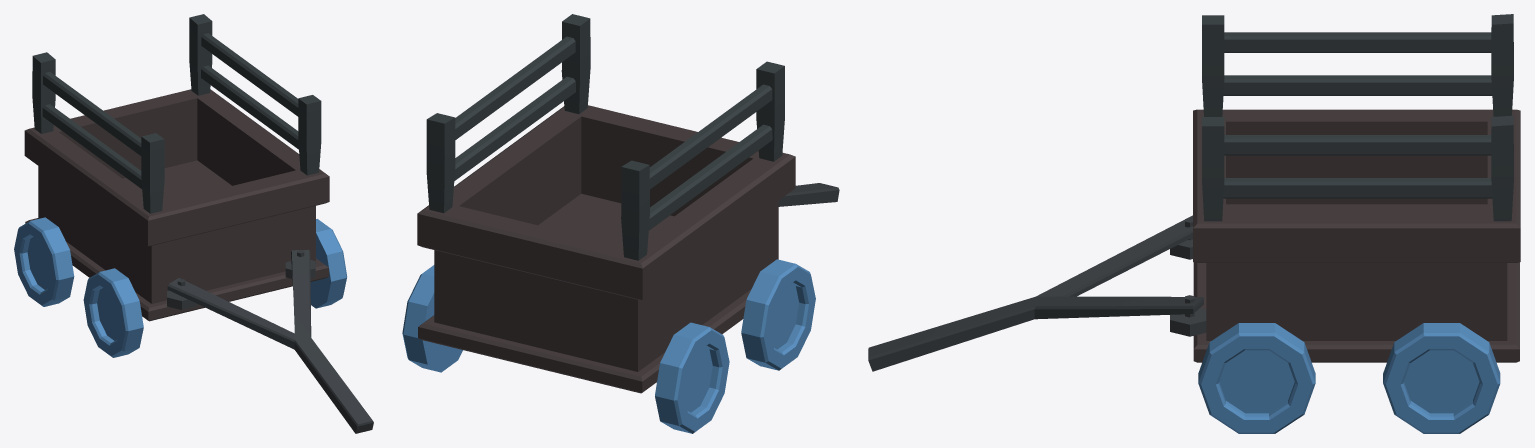
The model's file is cart_a.gltf.
3 renders of one model, left to right at view 1: azimuth 30°, elevation 25°; view 2: azimuth 150°, elevation 25°; view 3: azimuth 270°, elevation 25°, orthographic. The views are drawn at different scales.
Parts seen in each view (by area): view 1: body, wheel_2, wheel_5, wheel_4, wheel_1, wheel_6; view 2: body, wheel_5, wheel_2, wheel_1, wheel_4, wheel_9; view 3: body, wheel_8, wheel_11, wheel_7, wheel_10.
Boxes of the visible parts, bbox=[...] form: body: bbox=[18, 14, 373, 433]; wheel_2: bbox=[83, 274, 125, 356]; wheel_5: bbox=[14, 223, 55, 305]; wheel_4: bbox=[27, 237, 50, 289]; wheel_1: bbox=[97, 288, 119, 340]; wheel_6: bbox=[310, 233, 330, 308]; body: bbox=[402, 14, 839, 433]; wheel_5: bbox=[677, 330, 729, 431]; wheel_2: bbox=[763, 267, 815, 368]; wheel_1: bbox=[770, 283, 799, 349]; wheel_4: bbox=[684, 347, 712, 412]; wheel_9: bbox=[422, 293, 462, 372]; body: bbox=[868, 14, 1520, 433]; wheel_8: bbox=[1201, 336, 1312, 432]; wheel_11: bbox=[1386, 336, 1497, 432]; wheel_7: bbox=[1219, 350, 1294, 413]; wheel_10: bbox=[1404, 350, 1479, 413].
Size of the model in its own units: 0.607 by 0.5796 by 1.17.
Materials: 1 (1 with a texture image).
